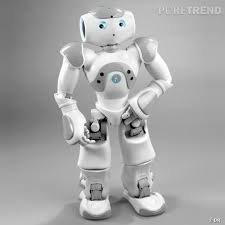nao: (52, 3, 179, 215)
